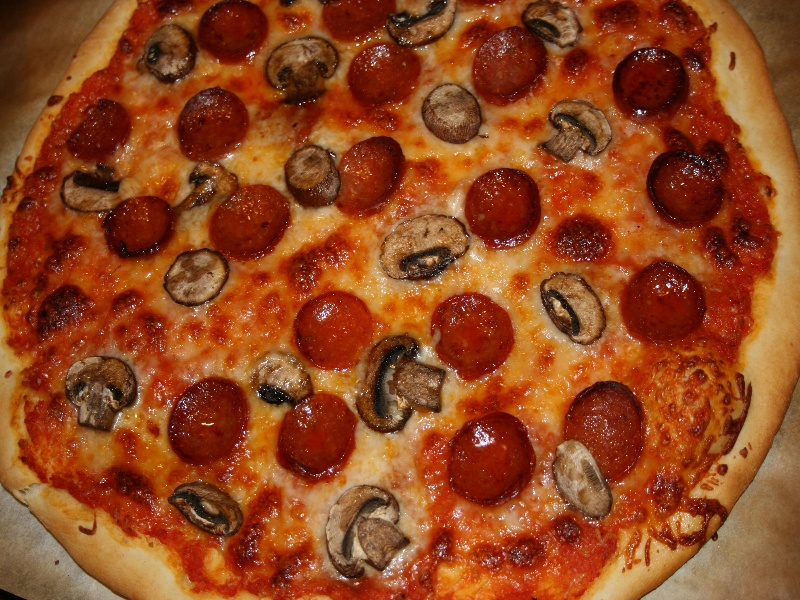champignon: (352, 332, 449, 441), (321, 482, 414, 585), (373, 211, 478, 285), (62, 354, 147, 435), (535, 269, 610, 352), (262, 35, 345, 106), (538, 95, 616, 166), (164, 477, 248, 542), (515, 3, 604, 52), (379, 1, 466, 49), (55, 165, 129, 215)
